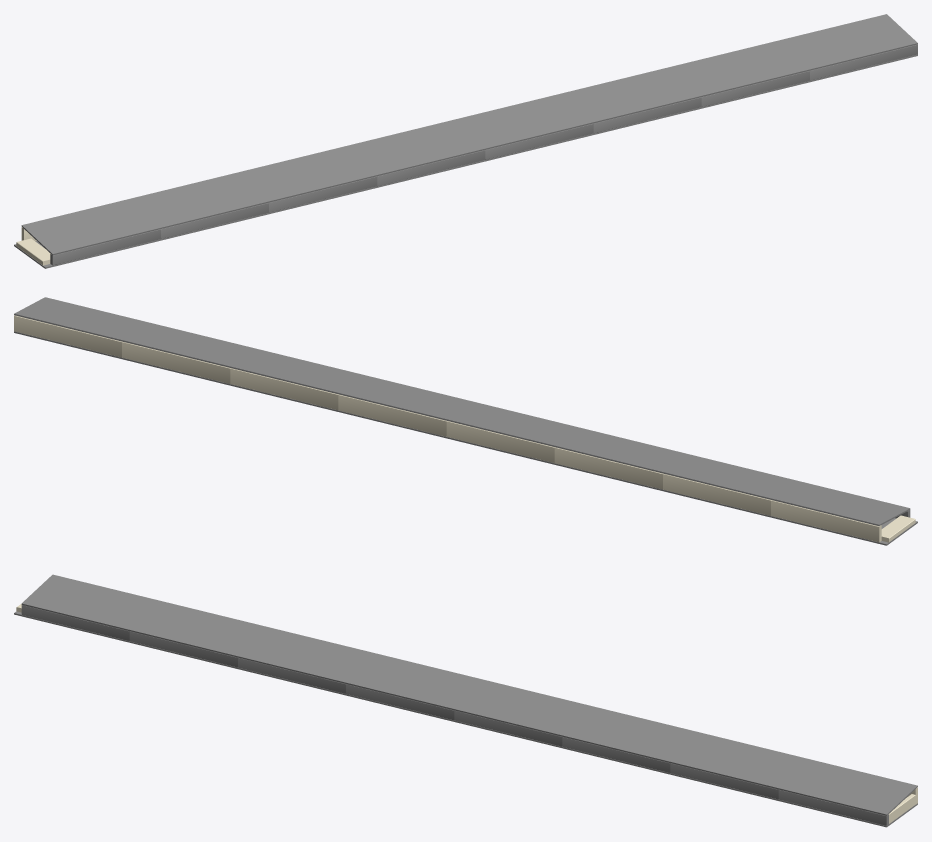
File: 2026_ARC_3v3_outer_wall_left.gltf
3 renders of one model, top to bottom at view 1: azimuth 30°, elevation 25°; view 2: azimuth 150°, elevation 25°; view 3: azimuth 330°, elevation 25°, orthographic.
Visible parts, largest first — view 1: Surface 1034, Surface 742, Surface 356, Surface 904, Surface 812, Surface 948, Surface 644, Surface 974, Surface 1035, Surface 814, Surface 950, Surface 646 (+4 smaller); view 2: Surface 1034, Surface 356, Surface 812, Surface 948, Surface 644, Surface 742, Surface 904, Surface 974, Surface 1036, Surface 651, Surface 819, Surface 749 (+5 smaller); view 3: Surface 356, Surface 812, Surface 644, Surface 742, Surface 1034, Surface 904, Surface 948, Surface 974, Surface 358, Surface 744, Surface 906, Surface 1035 (+4 smaller).
Boxes of the visible parts, bbox=[...] form: Surface 1034: bbox=[21, 199, 160, 255]; Surface 742: bbox=[562, 67, 701, 123]; Surface 356: bbox=[779, 14, 917, 70]; Surface 904: bbox=[346, 119, 485, 176]; Surface 812: bbox=[454, 93, 593, 149]; Surface 948: bbox=[238, 146, 377, 202]; Surface 644: bbox=[671, 40, 809, 96]; Surface 974: bbox=[130, 172, 268, 228]; Surface 1035: bbox=[50, 229, 160, 265]; Surface 814: bbox=[485, 123, 593, 159]; Surface 950: bbox=[269, 176, 377, 212]; Surface 646: bbox=[701, 71, 809, 106]; Surface 1034: bbox=[771, 482, 910, 526]; Surface 356: bbox=[14, 297, 152, 341]; Surface 812: bbox=[338, 376, 477, 420]; Surface 948: bbox=[554, 429, 693, 473]; Surface 644: bbox=[122, 323, 260, 367]; Surface 742: bbox=[230, 350, 368, 393]; Surface 904: bbox=[446, 403, 585, 446]; Surface 974: bbox=[663, 455, 801, 499]; Surface 1036: bbox=[771, 500, 881, 542]; Surface 651: bbox=[122, 341, 230, 383]; Surface 819: bbox=[338, 394, 446, 436]; Surface 749: bbox=[230, 368, 338, 410]; Surface 356: bbox=[778, 759, 917, 815]; Surface 812: bbox=[454, 680, 592, 736]; Surface 644: bbox=[670, 733, 809, 789]; Surface 742: bbox=[562, 706, 701, 762]; Surface 1034: bbox=[21, 574, 160, 630]; Surface 904: bbox=[346, 653, 484, 710]; Surface 948: bbox=[238, 627, 376, 683]; Surface 974: bbox=[129, 601, 268, 657]; Surface 358: bbox=[778, 789, 888, 825]; Surface 744: bbox=[562, 737, 670, 772]; Surface 906: bbox=[346, 684, 454, 720]; Surface 1035: bbox=[21, 605, 129, 640].
Bounding box in the file's own units: 8.07 × 0.1689 × 0.5.
